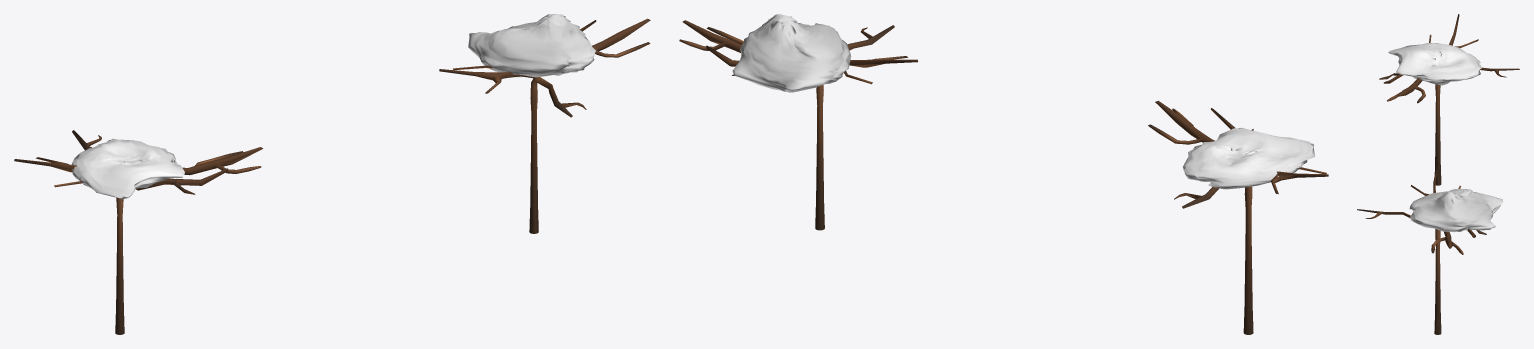
Rendered from SnowTrees.fbx.
3 renders of one model, left to right at view 1: azimuth 30°, elevation 25°; view 2: azimuth 150°, elevation 25°; view 3: azimuth 270°, elevation 25°, orthographic. The views are drawn at different scales.
Visible parts, largest first — view 1: Sphere.003, Sphere.004, Cylinder.001, Cylinder; view 2: Sphere.003, Sphere.004, Cylinder, Cylinder.001; view 3: Sphere.003, Sphere.004, Cylinder.001, Cylinder.
Boxes of the visible parts, left/top/right/bottom form: Sphere.003: left=468, top=14, right=595, bottom=77; Sphere.004: left=71, top=138, right=184, bottom=199; Cylinder.001: left=14, top=130, right=262, bottom=334; Cylinder: left=439, top=18, right=650, bottom=233; Sphere.003: left=732, top=14, right=851, bottom=92; Sphere.004: left=1182, top=127, right=1315, bottom=189; Cylinder: left=679, top=20, right=918, bottom=230; Cylinder.001: left=1148, top=100, right=1328, bottom=334; Sphere.003: left=1409, top=188, right=1503, bottom=232; Sphere.004: left=1388, top=43, right=1481, bottom=85; Cylinder.001: left=1379, top=14, right=1519, bottom=185; Cylinder: left=1357, top=162, right=1486, bottom=334.
Size of the model in its own units: 2843 by 884 by 862.
2 materials, 2 textured.
